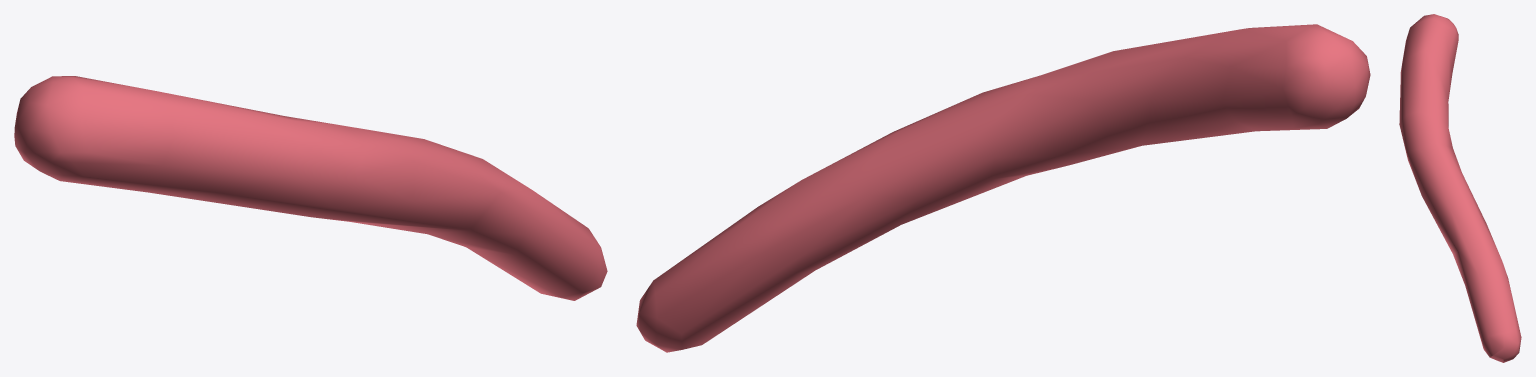
File: fma66403_fj2662.glb
The picture shows the model from 3 angles, left to right: view 1: azimuth 30°, elevation 25°; view 2: azimuth 150°, elevation 25°; view 3: azimuth 270°, elevation 25°; orthographic projection. The views are drawn at different scales.
Visible parts, largest first — view 1: FMA66403_FJ2662; view 2: FMA66403_FJ2662; view 3: FMA66403_FJ2662.
Part boxes in pixels (x1,y1,x2,y2): FMA66403_FJ2662: (14,76,607,300); FMA66403_FJ2662: (636,24,1370,352); FMA66403_FJ2662: (1399,14,1521,362).
Size of the model in its own units: 0.0151 by 0.00906 by 0.00491.
